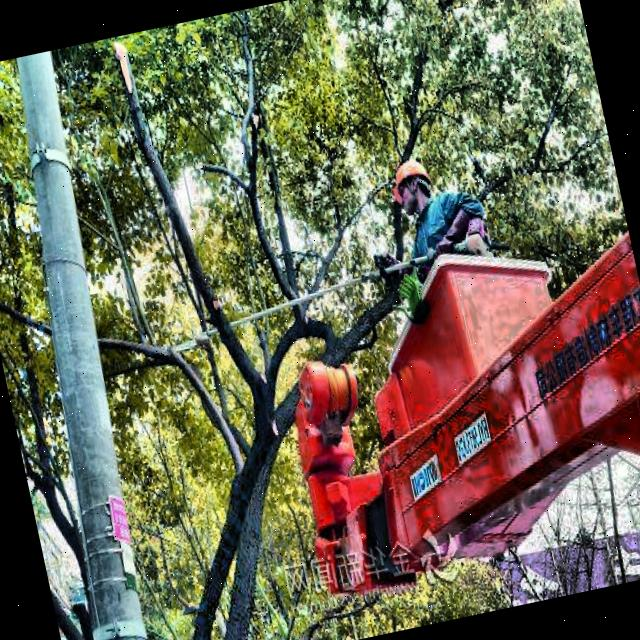helmet: (385, 154, 440, 224)
